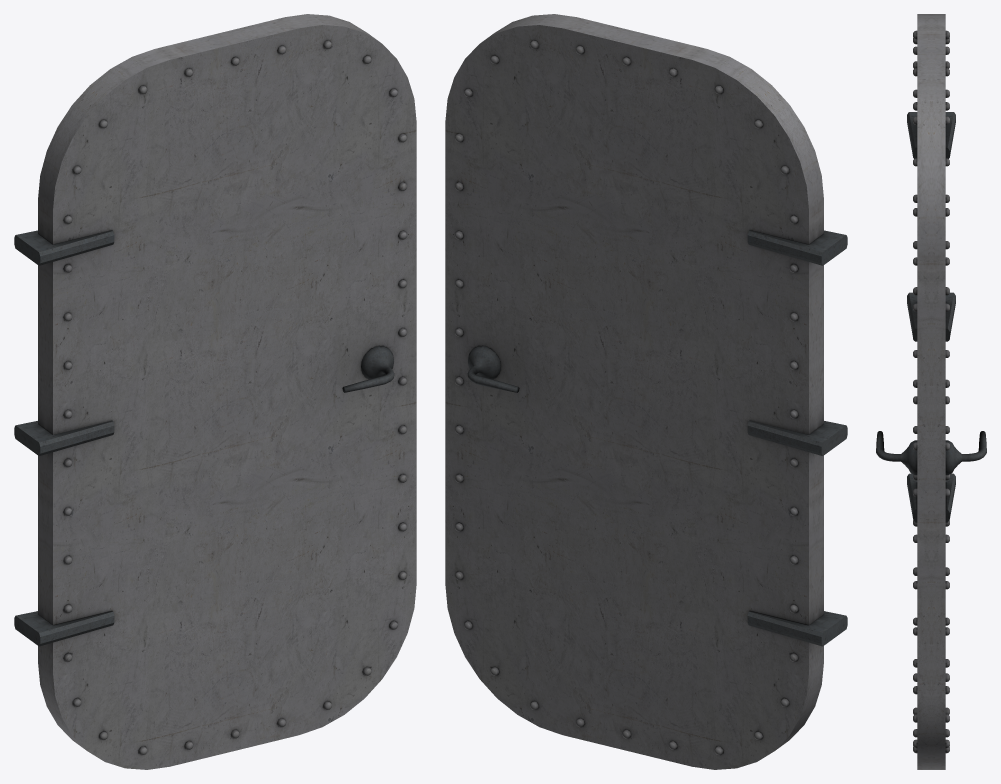
File: metal_door.glb
3 renders of one model, left to right at view 1: azimuth 30°, elevation 25°; view 2: azimuth 150°, elevation 25°; view 3: azimuth 270°, elevation 25°, orthographic. The views are drawn at different scales.
Visible parts, largest first — view 1: Cylinder.006_Door_0; view 2: Cylinder.006_Door_0; view 3: Cylinder.006_Door_0.
Boxes of the visible parts, left/top/right/bottom form: Cylinder.006_Door_0: left=14, top=14, right=416, bottom=769; Cylinder.006_Door_0: left=445, top=14, right=847, bottom=769; Cylinder.006_Door_0: left=876, top=14, right=986, bottom=769.
Size of the model in its own units: 1.15 by 2.03 by 0.3036.
1 material, 1 textured.
